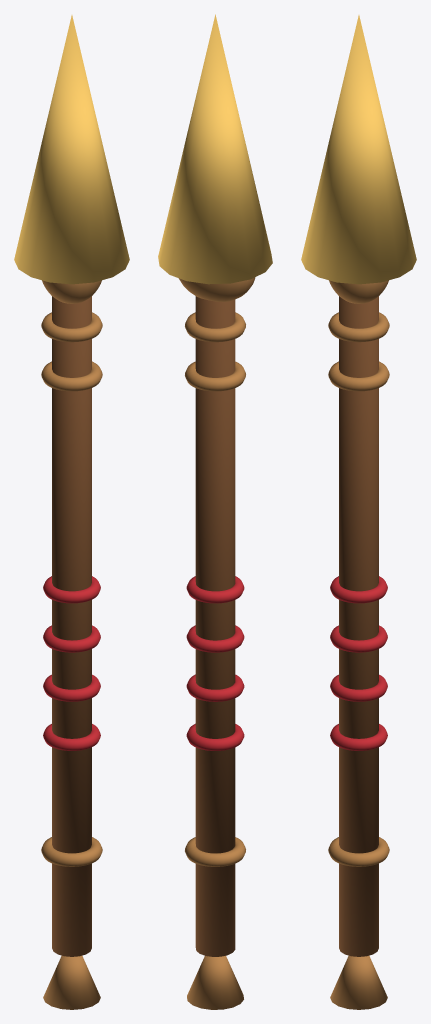
The model's file is AchilliesSpearModel.fbx.
The picture shows the model from 3 angles, left to right: view 1: azimuth 90°, elevation 25°; view 2: azimuth 150°, elevation 25°; view 3: azimuth 270°, elevation 25°; orthographic projection.
Visible parts, largest first — view 1: Achilles Spear Shaft, Achilles Spear Tip, Spear Butt Spike, Bronze Shaft Ring, Bronze Shaft Ring.002, Bronze Shaft Ring.001, Spear Blade Collar, Red Spear Grip.001, Red Spear Grip.003, Red Spear Grip.002, Red Spear Grip; view 2: Achilles Spear Shaft, Achilles Spear Tip, Spear Butt Spike, Spear Blade Collar, Bronze Shaft Ring.001, Bronze Shaft Ring, Bronze Shaft Ring.002, Red Spear Grip.002, Red Spear Grip.001, Red Spear Grip.003, Red Spear Grip; view 3: Achilles Spear Shaft, Achilles Spear Tip, Spear Butt Spike, Bronze Shaft Ring, Bronze Shaft Ring.002, Bronze Shaft Ring.001, Spear Blade Collar, Red Spear Grip.001, Red Spear Grip.003, Red Spear Grip.002, Red Spear Grip.
Boxes of the visible parts, left/top/right/bottom form: Achilles Spear Shaft: left=52, top=296, right=91, bottom=956; Achilles Spear Tip: left=14, top=15, right=129, bottom=284; Spear Butt Spike: left=43, top=955, right=100, bottom=1009; Bronze Shaft Ring: left=41, top=361, right=102, bottom=391; Bronze Shaft Ring.002: left=41, top=837, right=102, bottom=866; Bronze Shaft Ring.001: left=41, top=312, right=102, bottom=342; Spear Blade Collar: left=42, top=280, right=101, bottom=303; Red Spear Grip.001: left=43, top=674, right=100, bottom=701; Red Spear Grip.003: left=43, top=576, right=100, bottom=603; Red Spear Grip.002: left=43, top=625, right=100, bottom=652; Red Spear Grip: left=43, top=724, right=100, bottom=750; Achilles Spear Shaft: left=195, top=296, right=235, bottom=956; Achilles Spear Tip: left=158, top=14, right=272, bottom=284; Spear Butt Spike: left=187, top=955, right=243, bottom=1009; Spear Blade Collar: left=179, top=277, right=255, bottom=302; Bronze Shaft Ring.001: left=185, top=312, right=245, bottom=342; Bronze Shaft Ring: left=185, top=361, right=245, bottom=391; Bronze Shaft Ring.002: left=185, top=837, right=245, bottom=866; Red Spear Grip.002: left=186, top=625, right=244, bottom=652; Red Spear Grip.001: left=186, top=674, right=244, bottom=701; Red Spear Grip.003: left=186, top=576, right=244, bottom=603; Red Spear Grip: left=186, top=723, right=244, bottom=750; Achilles Spear Shaft: left=339, top=296, right=378, bottom=956; Achilles Spear Tip: left=301, top=15, right=416, bottom=284; Spear Butt Spike: left=330, top=955, right=387, bottom=1009; Bronze Shaft Ring: left=328, top=361, right=389, bottom=391; Bronze Shaft Ring.002: left=328, top=837, right=389, bottom=866; Bronze Shaft Ring.001: left=328, top=312, right=389, bottom=342; Spear Blade Collar: left=329, top=280, right=388, bottom=303; Red Spear Grip.001: left=330, top=674, right=387, bottom=701; Red Spear Grip.003: left=330, top=576, right=387, bottom=603; Red Spear Grip.002: left=330, top=625, right=387, bottom=652; Red Spear Grip: left=330, top=724, right=387, bottom=750.
Bounding box in the file's own units: 32 × 300 × 32.
